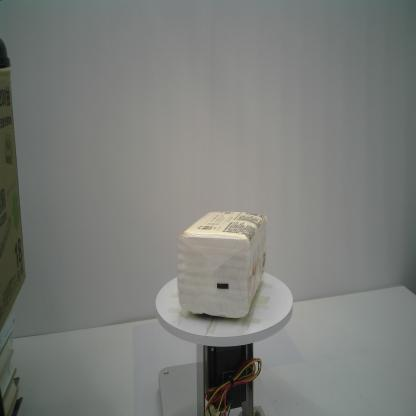Tissue: (177, 209, 269, 318)
